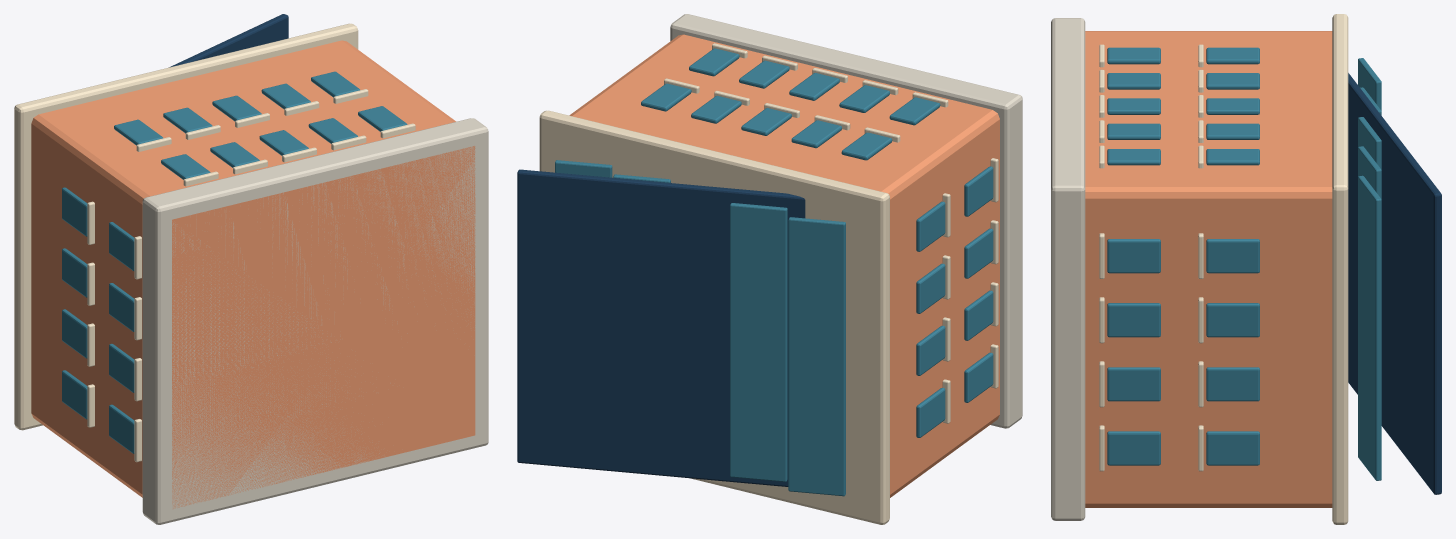
File: CR_CampusBuilding_B.fbx
3 renders of one model, left to right at view 1: azimuth 30°, elevation 25°; view 2: azimuth 150°, elevation 25°; view 3: azimuth 270°, elevation 25°, orthographic. The views are drawn at different scales.
Visible parts, largest first — view 1: BrickLight_Main, Cream_Base.001, Cream_Cornice.001, Navy_RoofBeam, Glass_SideWindow_-3.655_1_3, Glass_SideWindow_-3.655_0_0, Glass_SideWindow_-3.655_1_0, Glass_SideWindow_-3.655_1_1, Glass_SideWindow_-3.655_1_2, Glass_SideWindow_-3.655_0_1, Glass_SideWindow_-3.655_0_2, Glass_SideWindow_-3.655_0_3 (+10 smaller); view 2: Navy_RoofBeam, BrickLight_Main, Cream_Cornice.001, Glass_RoofPane, Glass_RoofPane.001, Cream_Base.001, Glass_SideWindow_-3.655_0_0, Glass_SideWindow_-3.655_0_1, Glass_SideWindow_-3.655_0_2, Glass_SideWindow_-3.655_0_3, Glass_SideWindow_-3.655_1_2, Glass_SideWindow_-3.655_1_3 (+13 smaller); view 3: BrickLight_Main, Navy_RoofBeam, Cream_Base.001, Cream_Cornice.001, Glass_RoofPane.004, Glass_SideWindow_3.655_0_0, Glass_SideWindow_3.655_0_1, Glass_SideWindow_3.655_1_0, Glass_SideWindow_3.655_0_3, Glass_SideWindow_3.655_1_1, Glass_SideWindow_3.655_1_2, Glass_SideWindow_3.655_0_2 (+14 smaller).
Part boxes in pixels (x1,y1,x2,y2): BrickLight_Main: [31, 40, 475, 508]; Cream_Base.001: [142, 118, 488, 524]; Cream_Cornice.001: [14, 23, 358, 430]; Navy_RoofBeam: [169, 14, 288, 67]; Glass_SideWindow_-3.655_1_3: [62, 187, 87, 236]; Glass_SideWindow_-3.655_0_0: [109, 404, 134, 453]; Glass_SideWindow_-3.655_1_0: [62, 370, 87, 419]; Glass_SideWindow_-3.655_1_1: [62, 309, 87, 358]; Glass_SideWindow_-3.655_1_2: [62, 248, 87, 297]; Glass_SideWindow_-3.655_0_1: [109, 343, 134, 392]; Glass_SideWindow_-3.655_0_2: [109, 283, 134, 331]; Glass_SideWindow_-3.655_0_3: [109, 222, 134, 270]; Navy_RoofBeam: [517, 169, 805, 486]; BrickLight_Main: [569, 34, 999, 497]; Cream_Cornice.001: [539, 110, 889, 524]; Glass_RoofPane: [788, 217, 845, 496]; Glass_RoofPane.001: [730, 203, 787, 481]; Cream_Base.001: [670, 14, 1022, 428]; Glass_SideWindow_-3.655_0_0: [964, 352, 993, 402]; Glass_SideWindow_-3.655_0_1: [964, 290, 993, 340]; Glass_SideWindow_-3.655_0_2: [964, 228, 993, 278]; Glass_SideWindow_-3.655_0_3: [964, 166, 993, 216]; Glass_SideWindow_-3.655_1_2: [916, 263, 945, 313]; Glass_SideWindow_-3.655_1_3: [916, 201, 945, 251]; BrickLight_Main: [1085, 31, 1332, 507]; Navy_RoofBeam: [1348, 73, 1441, 494]; Cream_Base.001: [1051, 18, 1085, 520]; Cream_Cornice.001: [1332, 14, 1348, 524]; Glass_RoofPane.004: [1358, 175, 1381, 480]; Glass_SideWindow_3.655_0_0: [1107, 431, 1160, 465]; Glass_SideWindow_3.655_0_1: [1107, 367, 1160, 401]; Glass_SideWindow_3.655_1_0: [1206, 431, 1259, 465]; Glass_SideWindow_3.655_0_3: [1107, 239, 1160, 273]; Glass_SideWindow_3.655_1_1: [1206, 367, 1259, 401]; Glass_SideWindow_3.655_1_2: [1206, 303, 1259, 337]; Glass_SideWindow_3.655_0_2: [1107, 303, 1160, 337].
Size of the model in its own units: 7.7 by 7 by 7.3.
